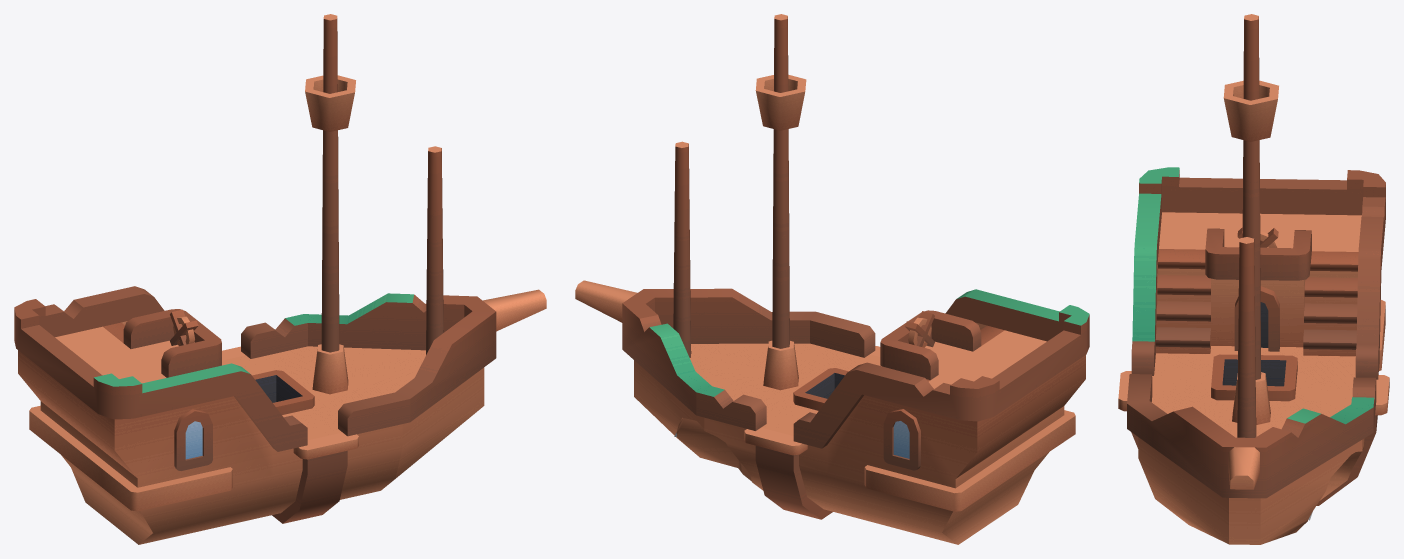
The model's file is ship-wreck.001_lev2.glb.
The picture shows the model from 3 angles, left to right: view 1: azimuth 30°, elevation 25°; view 2: azimuth 150°, elevation 25°; view 3: azimuth 270°, elevation 25°; orthographic projection. The views are drawn at different scales.
Parts seen in each view (by area): view 1: ship-wreck.001_lev2; view 2: ship-wreck.001_lev2; view 3: ship-wreck.001_lev2.
Boxes of the visible parts, x1,y1,x2,y2 form: ship-wreck.001_lev2: (14, 14, 546, 544); ship-wreck.001_lev2: (575, 14, 1089, 544); ship-wreck.001_lev2: (1118, 14, 1389, 544).
Size of the model in its own units: 13.65 by 12.75 by 6.19.
Materials: 1 (1 with a texture image).
